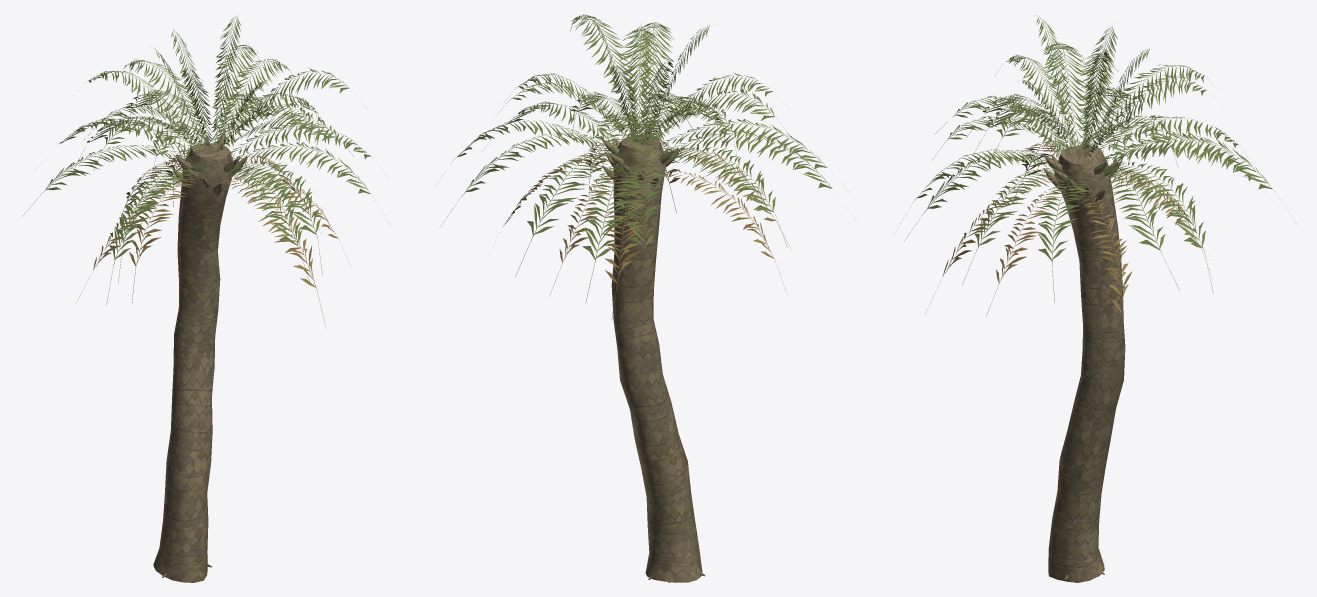
File: palm-1.glb
3 renders of one model, left to right at view 1: azimuth 30°, elevation 25°; view 2: azimuth 150°, elevation 25°; view 3: azimuth 270°, elevation 25°, orthographic. The views are drawn at different scales.
Visible parts, largest first — view 1: 海枣棕榈 · 舒展羽冠 LOD0; view 2: 海枣棕榈 · 舒展羽冠 LOD0; view 3: 海枣棕榈 · 舒展羽冠 LOD0.
Boxes of the visible parts, box(x1,y1,x2,y2) form: 海枣棕榈 · 舒展羽冠 LOD0: box(22, 15, 390, 582); 海枣棕榈 · 舒展羽冠 LOD0: box(440, 14, 851, 582); 海枣棕榈 · 舒展羽冠 LOD0: box(898, 15, 1296, 582).
Size of the model in its own units: 8.06 by 12 by 8.03.
Materials: 2 (2 with a texture image).
